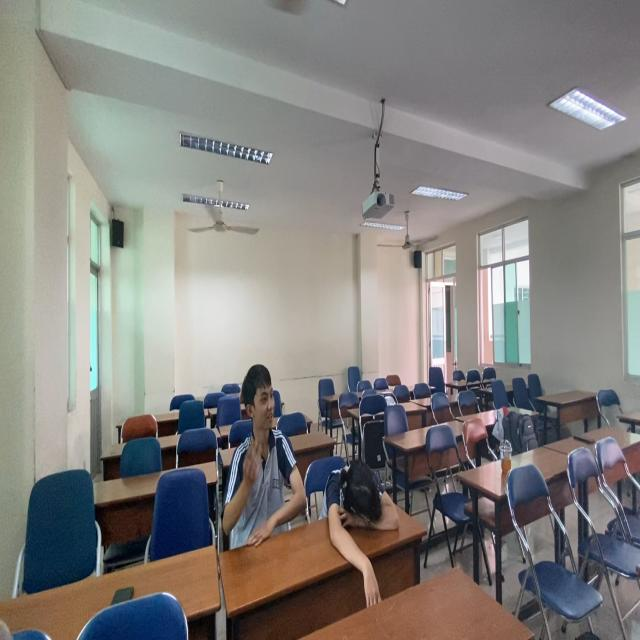sleep: (319, 449, 405, 548)
